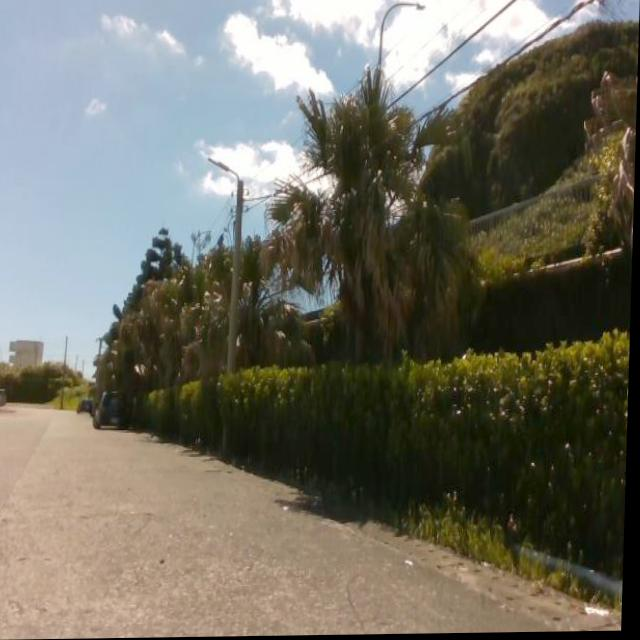pollute: (582, 604, 615, 620)
